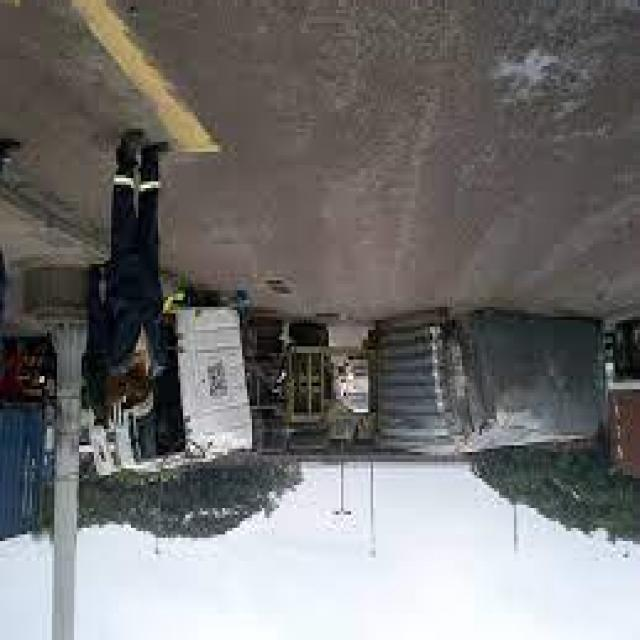severe: (85, 295, 612, 493)
